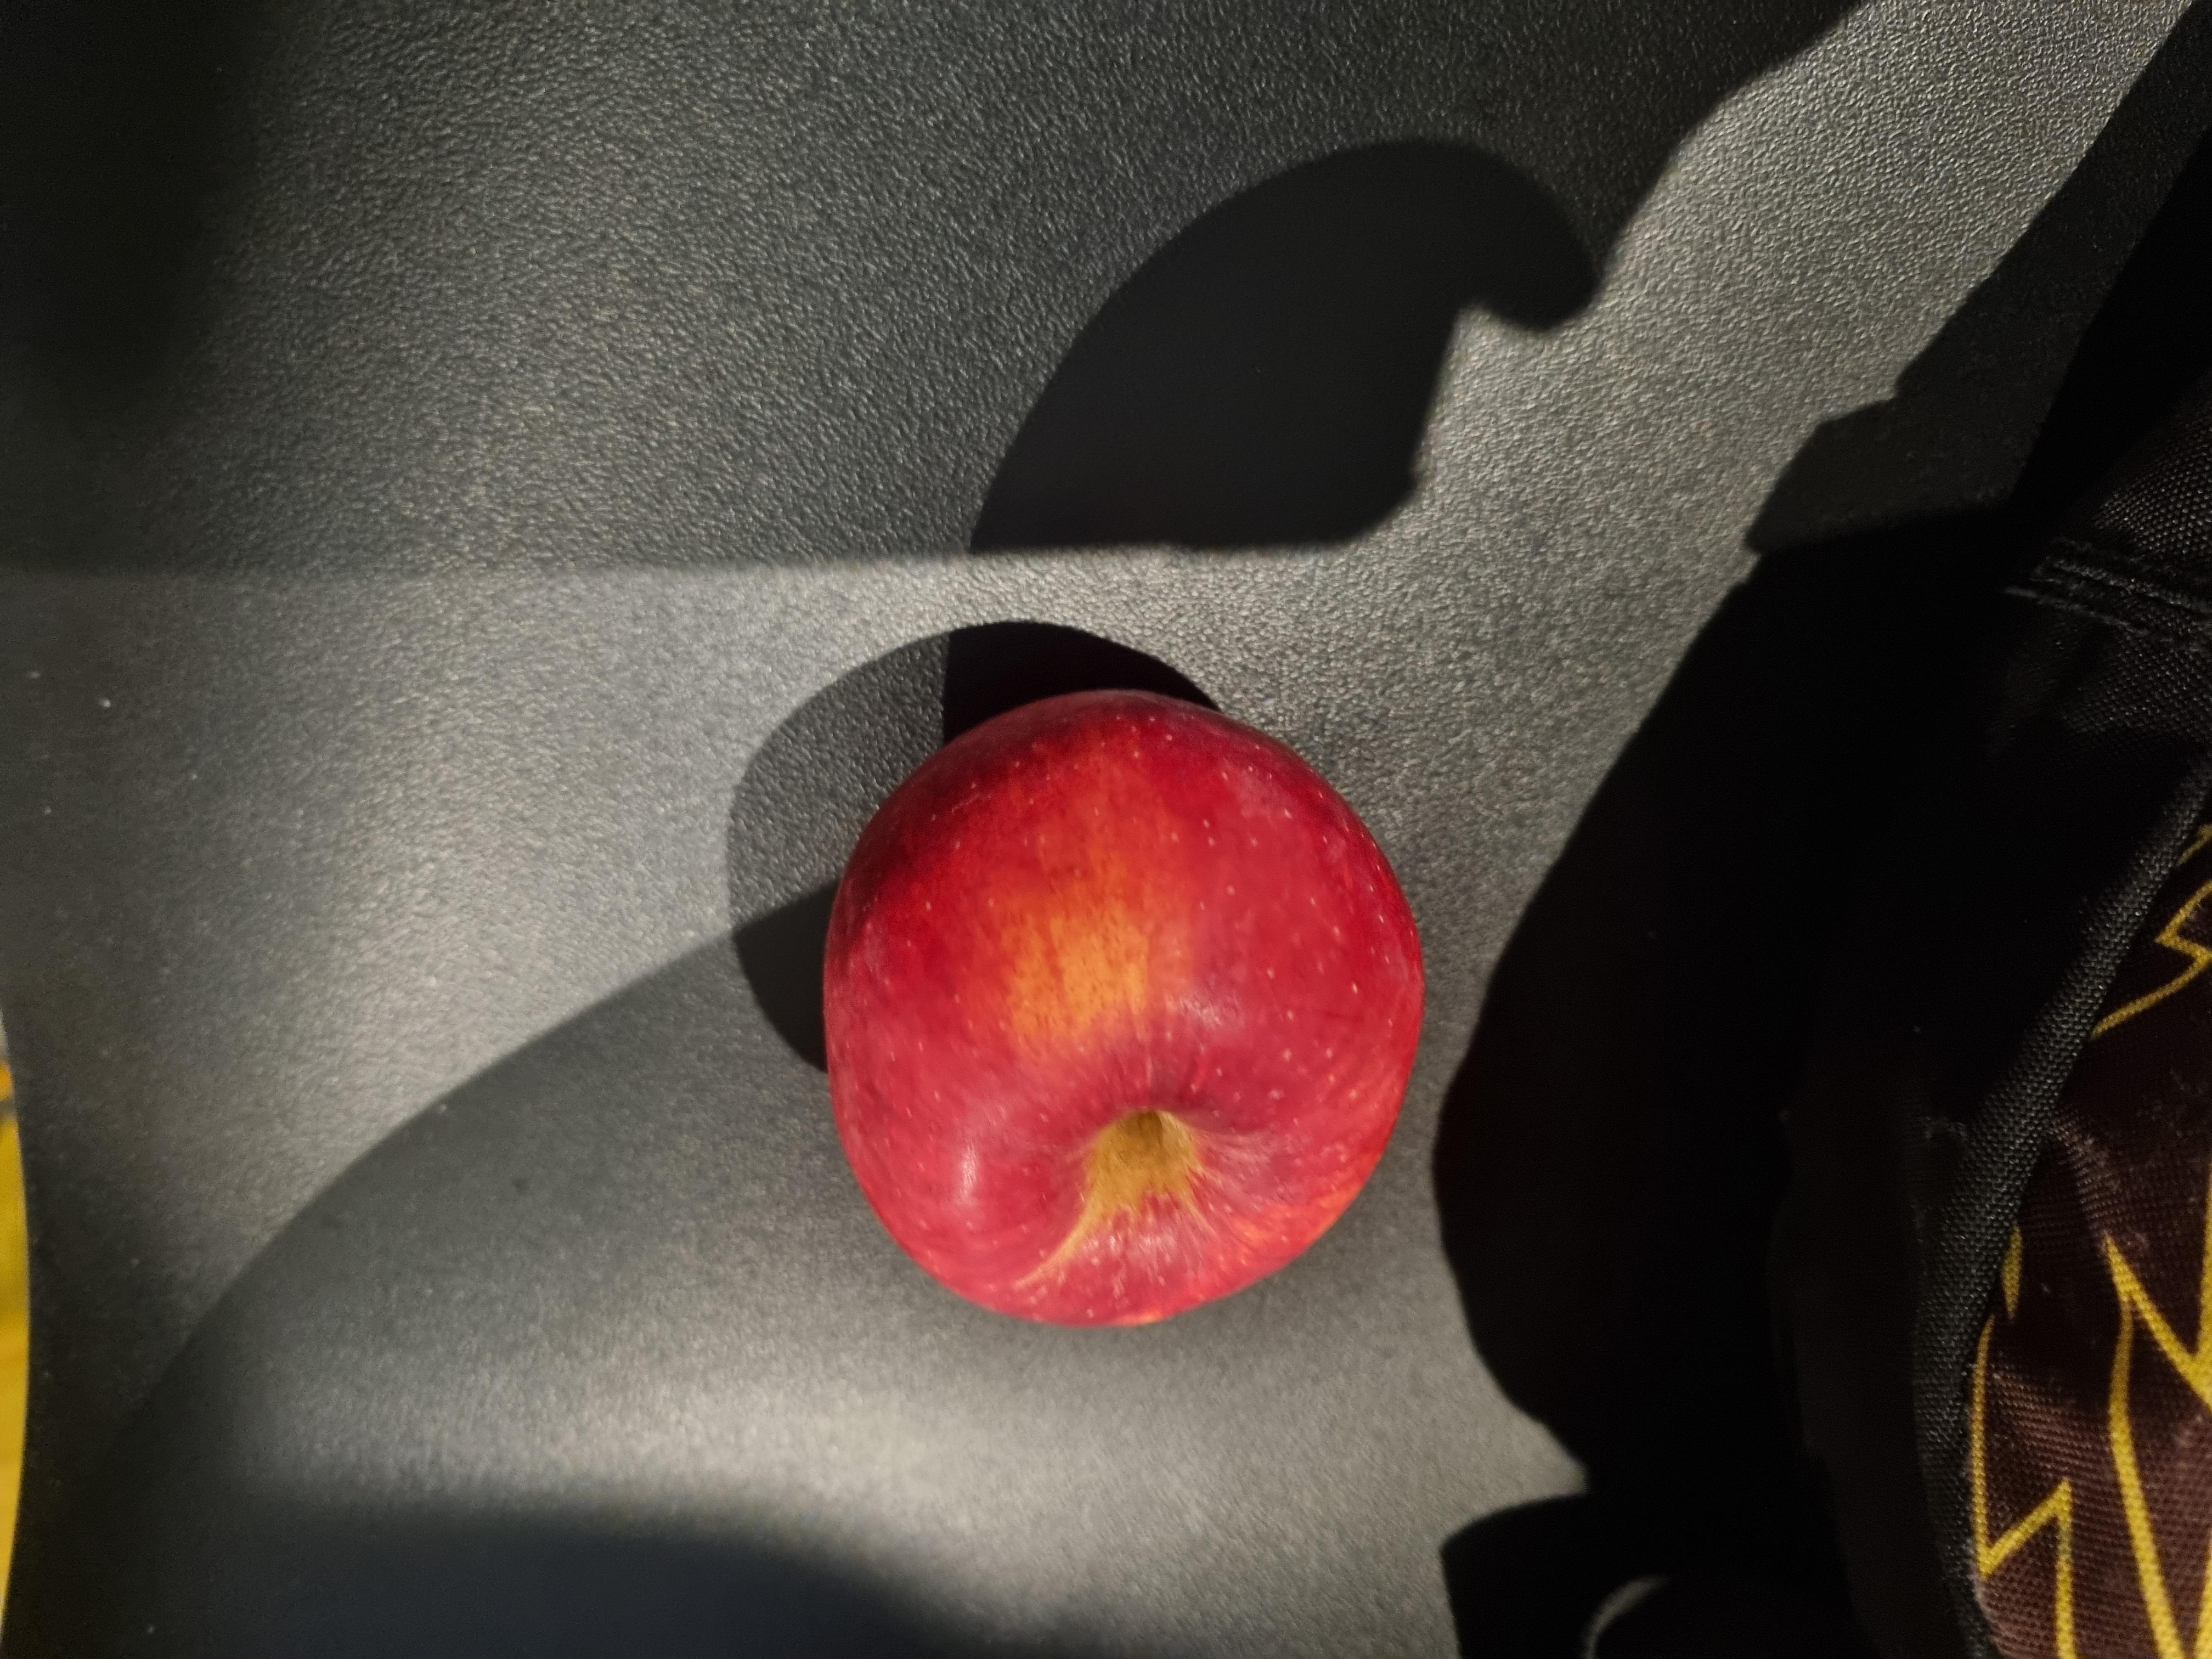Apple: (780, 310, 1406, 983)
